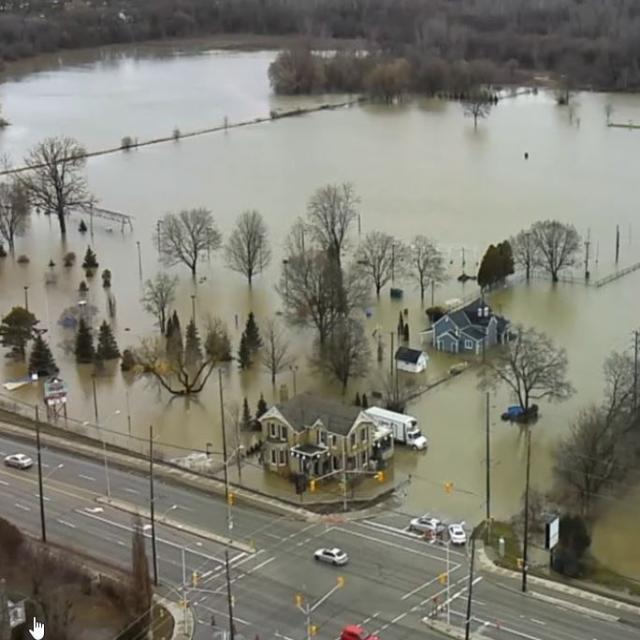flooded_areas: (0, 43, 639, 516)
